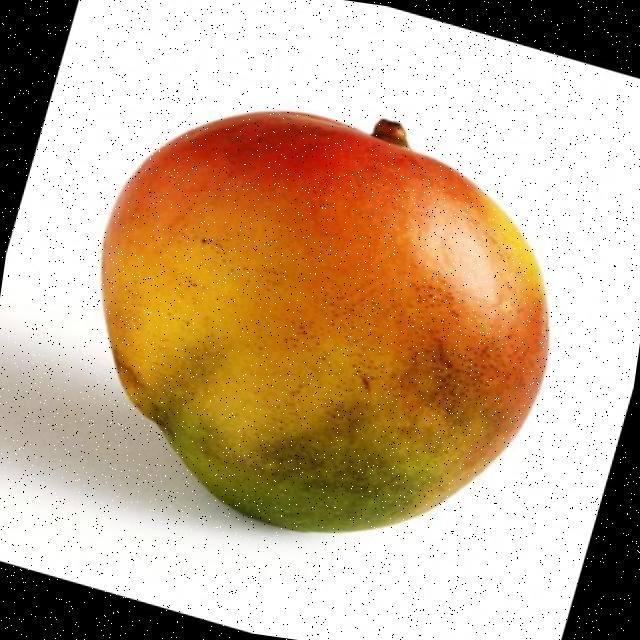mango: (101, 112, 547, 533)
